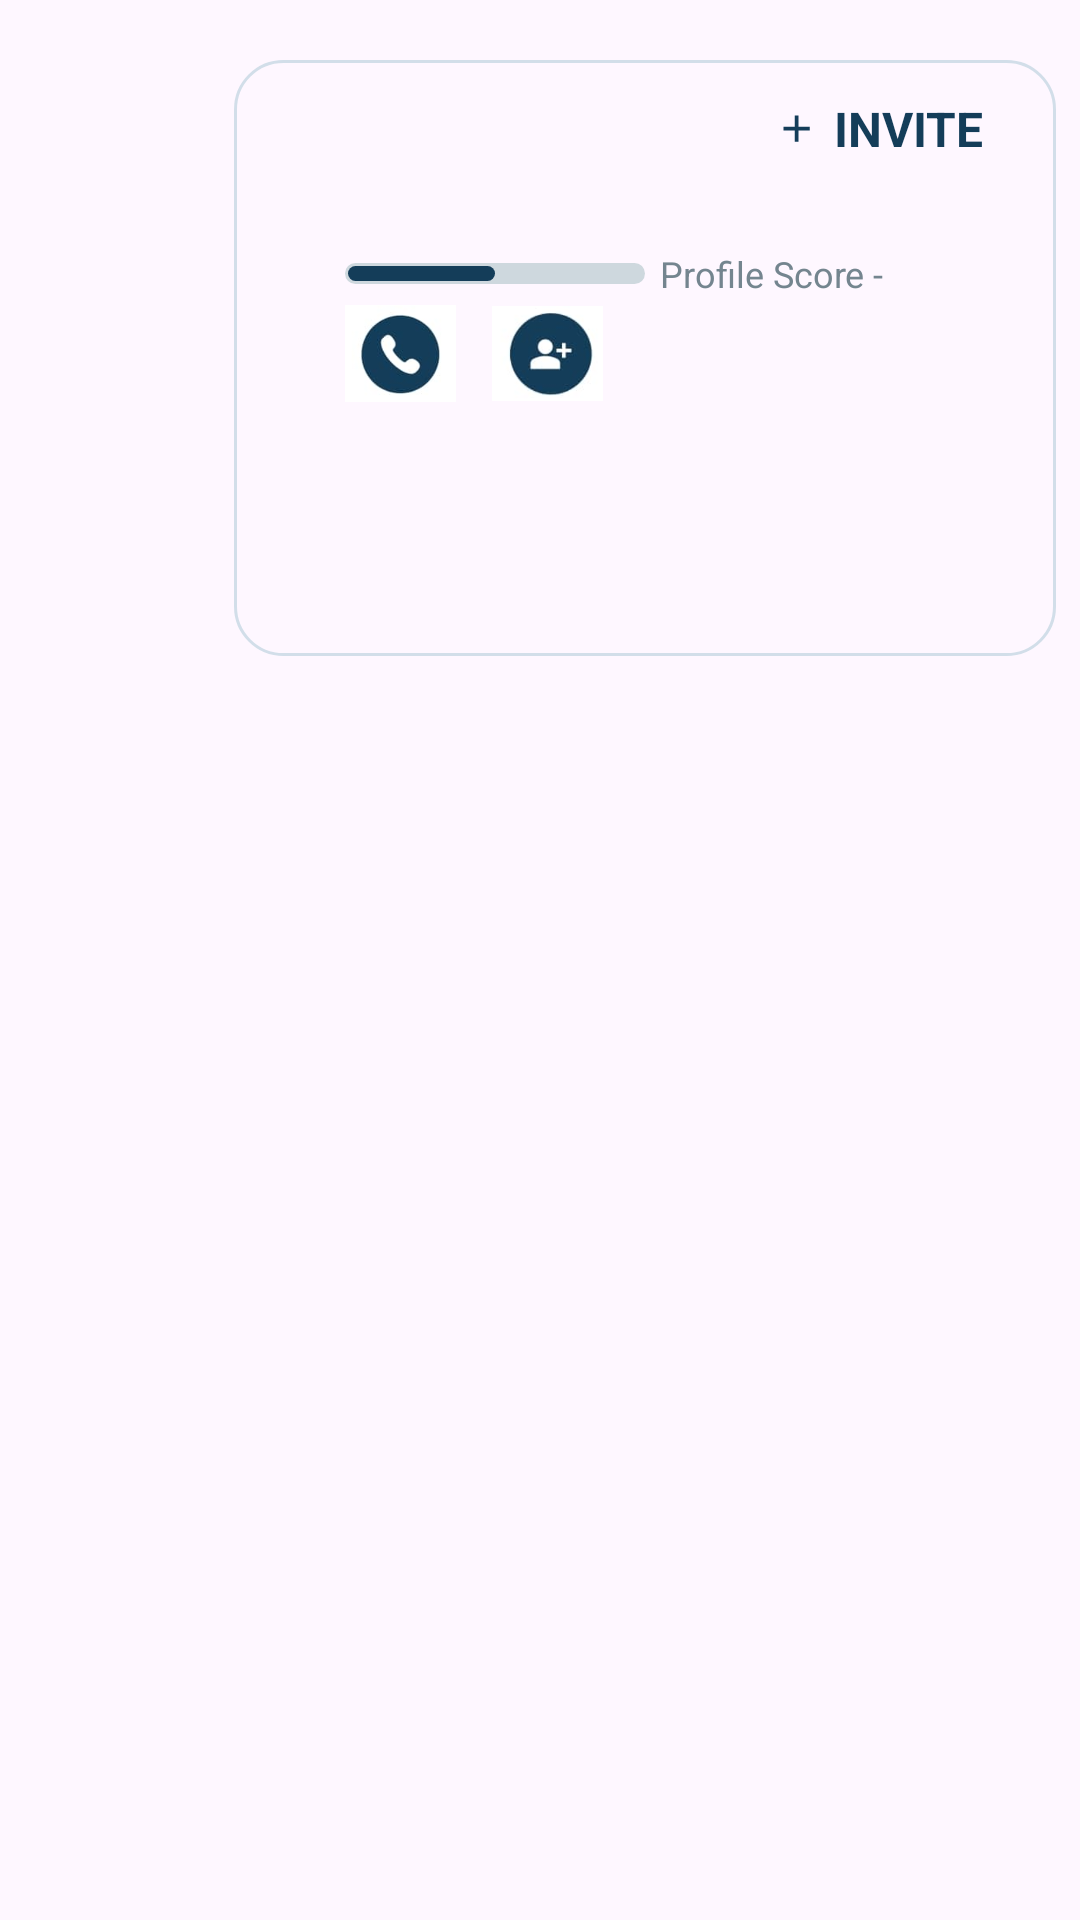

Where icons sit on this 1080×1920 app screen, as [left=x1, top=y1, right=x2, bottom=y2]:
add: [left=783, top=115, right=810, bottom=142]
call: [left=361, top=315, right=440, bottom=394]
contacts: [left=509, top=313, right=593, bottom=395]
